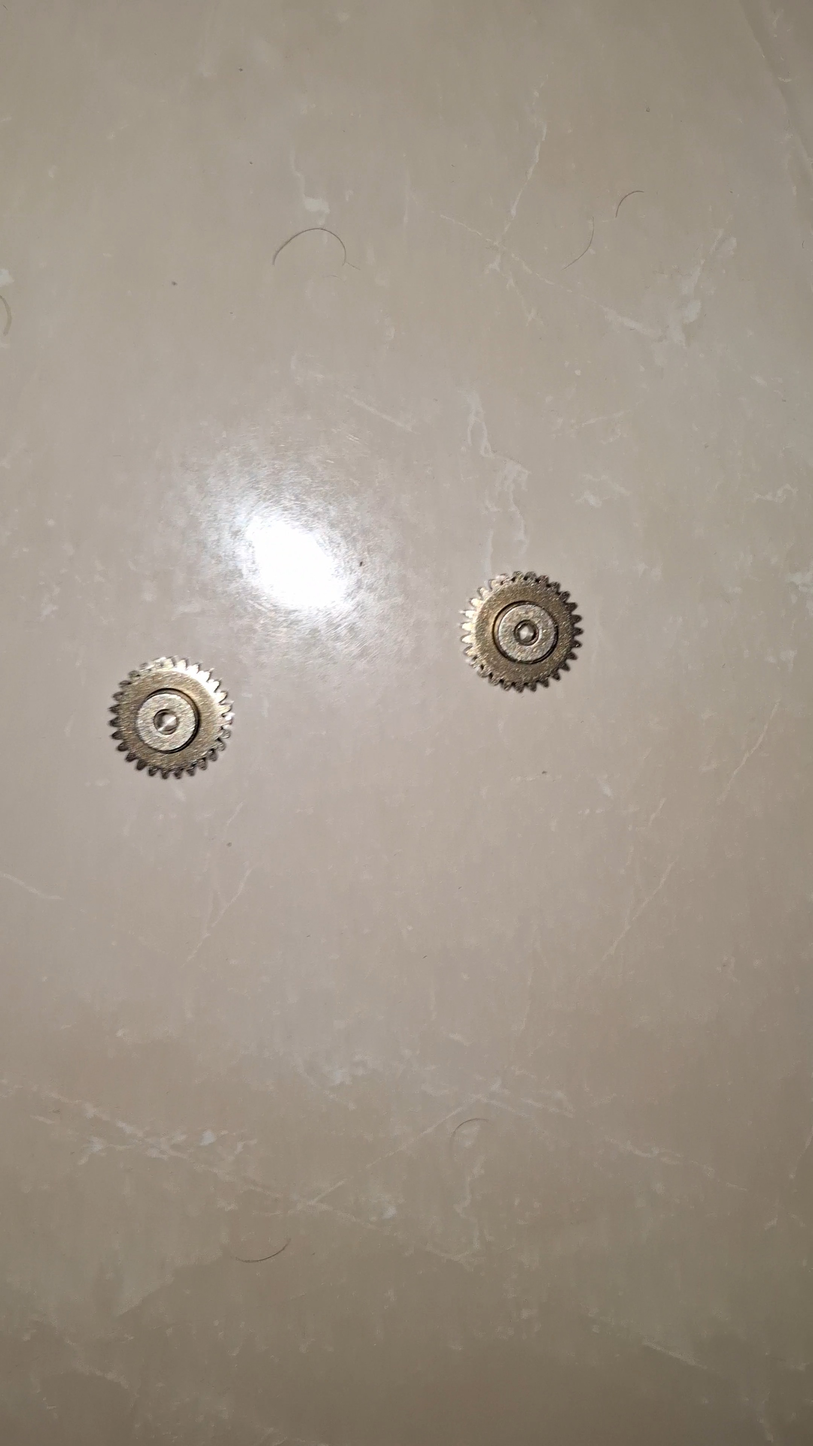spur gear: (121, 638, 239, 755), (463, 551, 579, 667)
